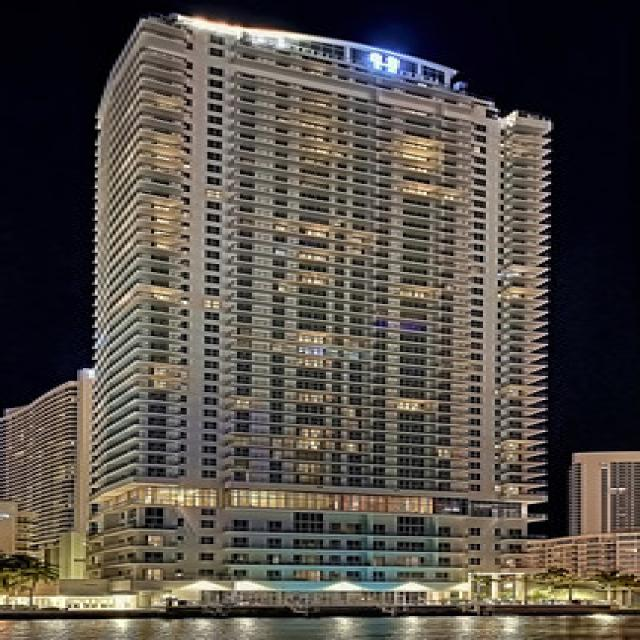building: (75, 9, 552, 602)
